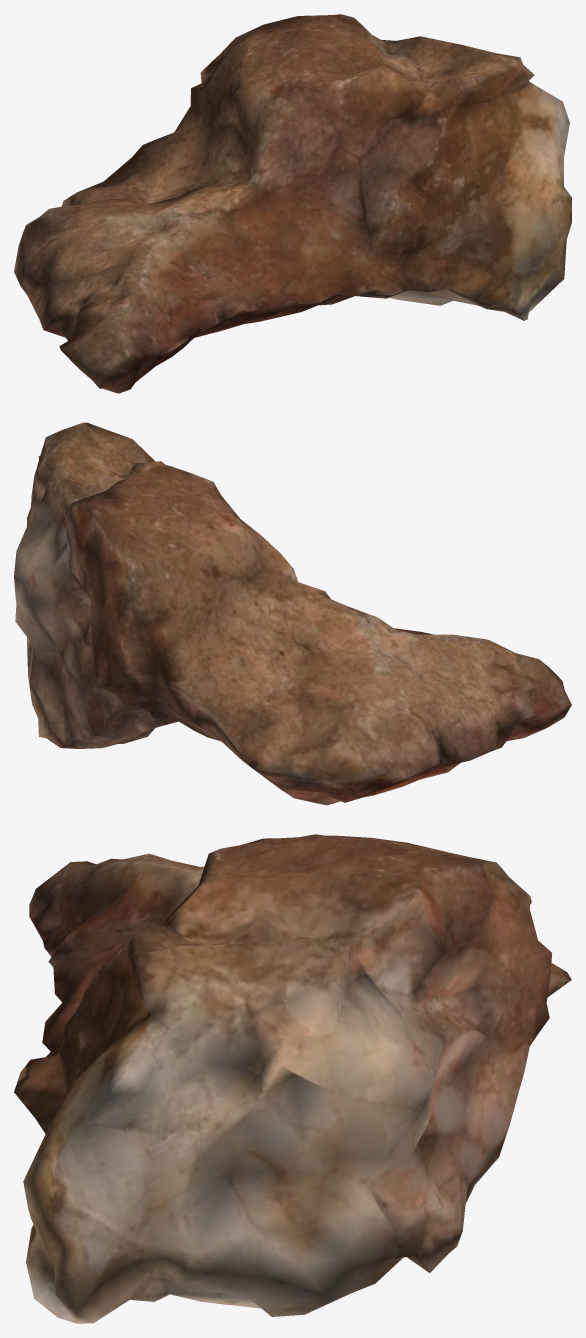
File: batu.glb
3 renders of one model, top to bottom at view 1: azimuth 30°, elevation 25°; view 2: azimuth 150°, elevation 25°; view 3: azimuth 270°, elevation 25°, orthographic. The views are drawn at different scales.
Visible parts, largest first — view 1: stone_01; view 2: stone_01; view 3: stone_01.
Boxes of the visible parts, x1=… form: stone_01: x1=14, y1=14, x2=571, y2=393; stone_01: x1=14, y1=422, x2=571, y2=805; stone_01: x1=14, y1=834, x2=571, y2=1323.
Size of the model in its own units: 0.1462 by 0.0708 by 0.0886.
Materials: 1 (1 with a texture image).
